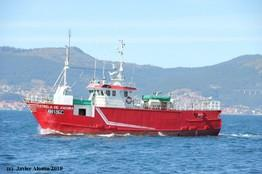otherboat: (23, 40, 225, 137)
